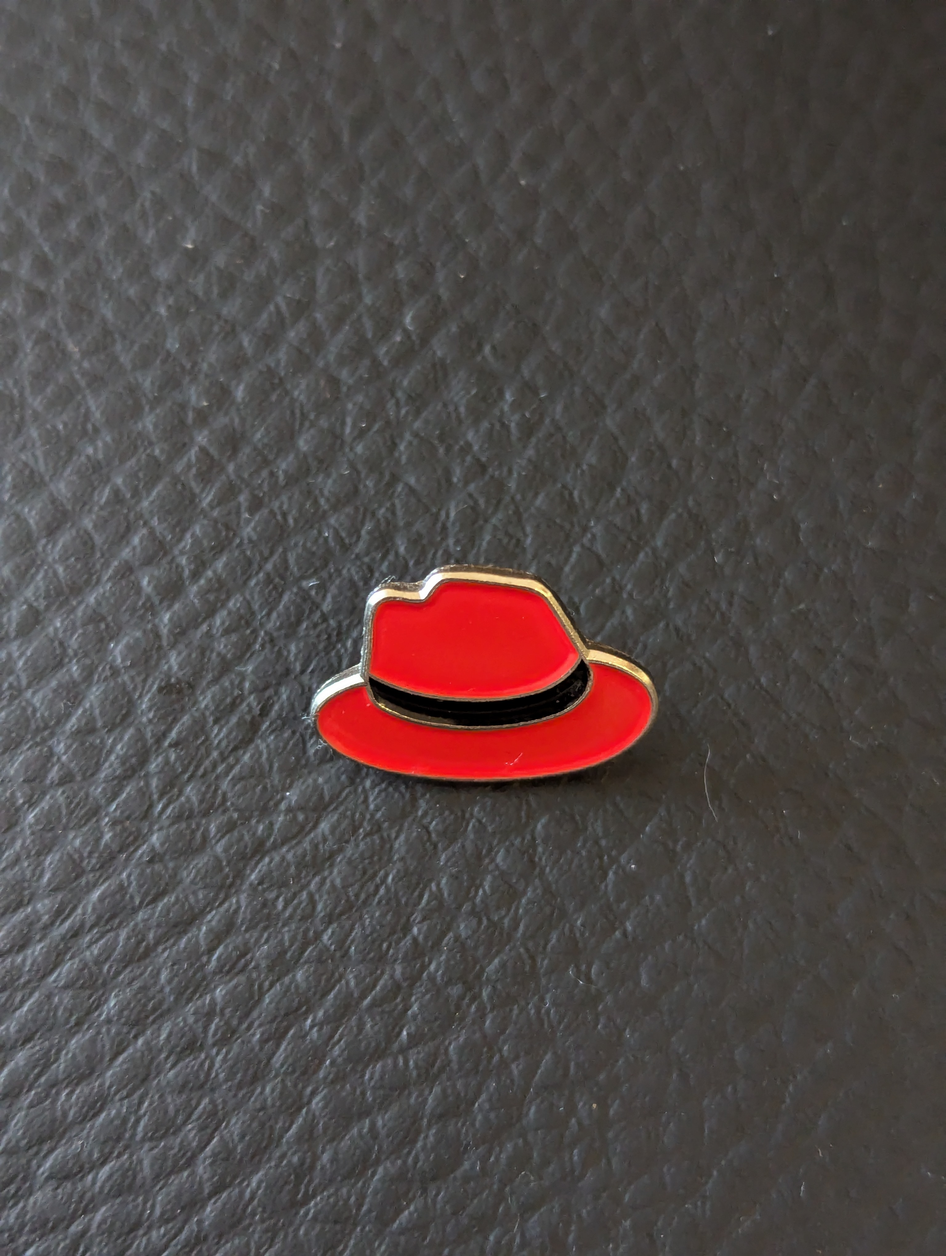Red-Hat: (238, 513, 772, 833)
